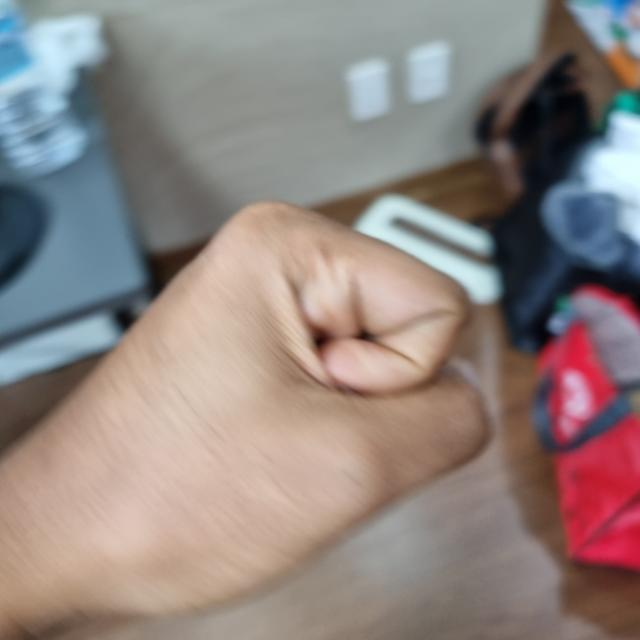Rock: (1, 200, 483, 627)
